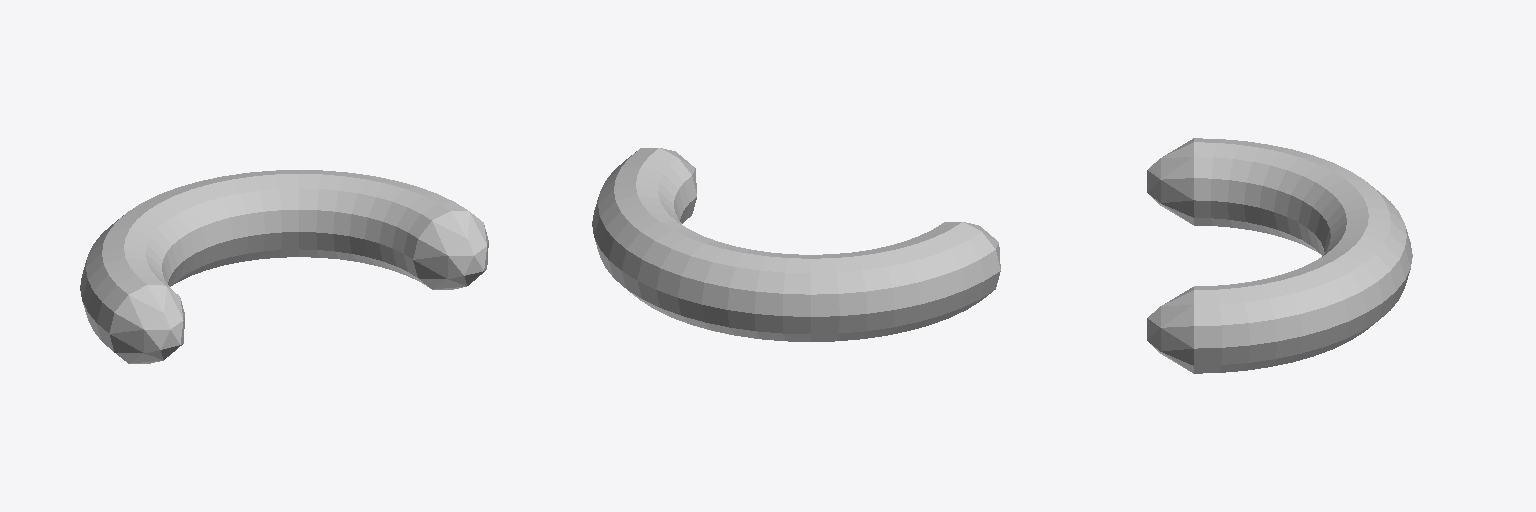
The model's file is Catcher.obj.
3 views of the same model, side by side, from view 1: azimuth 30°, elevation 25°; view 2: azimuth 150°, elevation 25°; view 3: azimuth 270°, elevation 25° (orthographic).
Parts seen in each view (by area): view 1: Torus; view 2: Torus; view 3: Torus.
Boxes of the visible parts, x1=… form: Torus: x1=80, y1=170, x2=488, y2=363; Torus: x1=592, y1=148, x2=1000, y2=341; Torus: x1=1147, y1=138, x2=1412, y2=373.
Size of the model in its own units: 2.5 by 0.5 by 1.52.